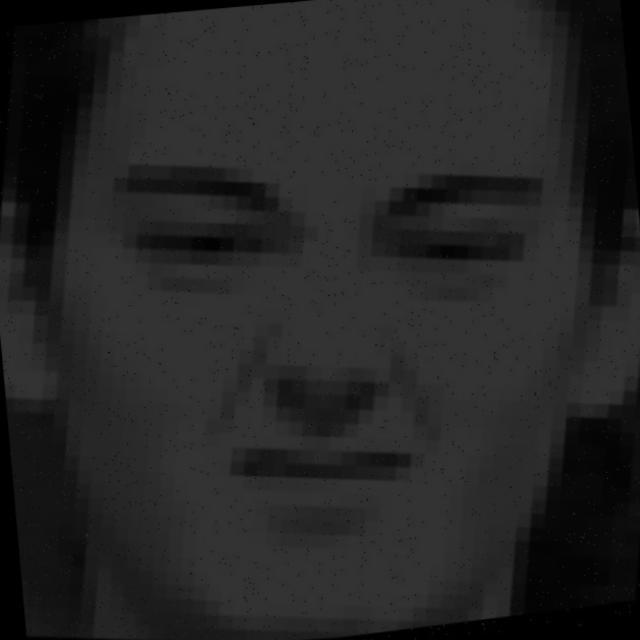Disgust: (21, 80, 640, 626)
